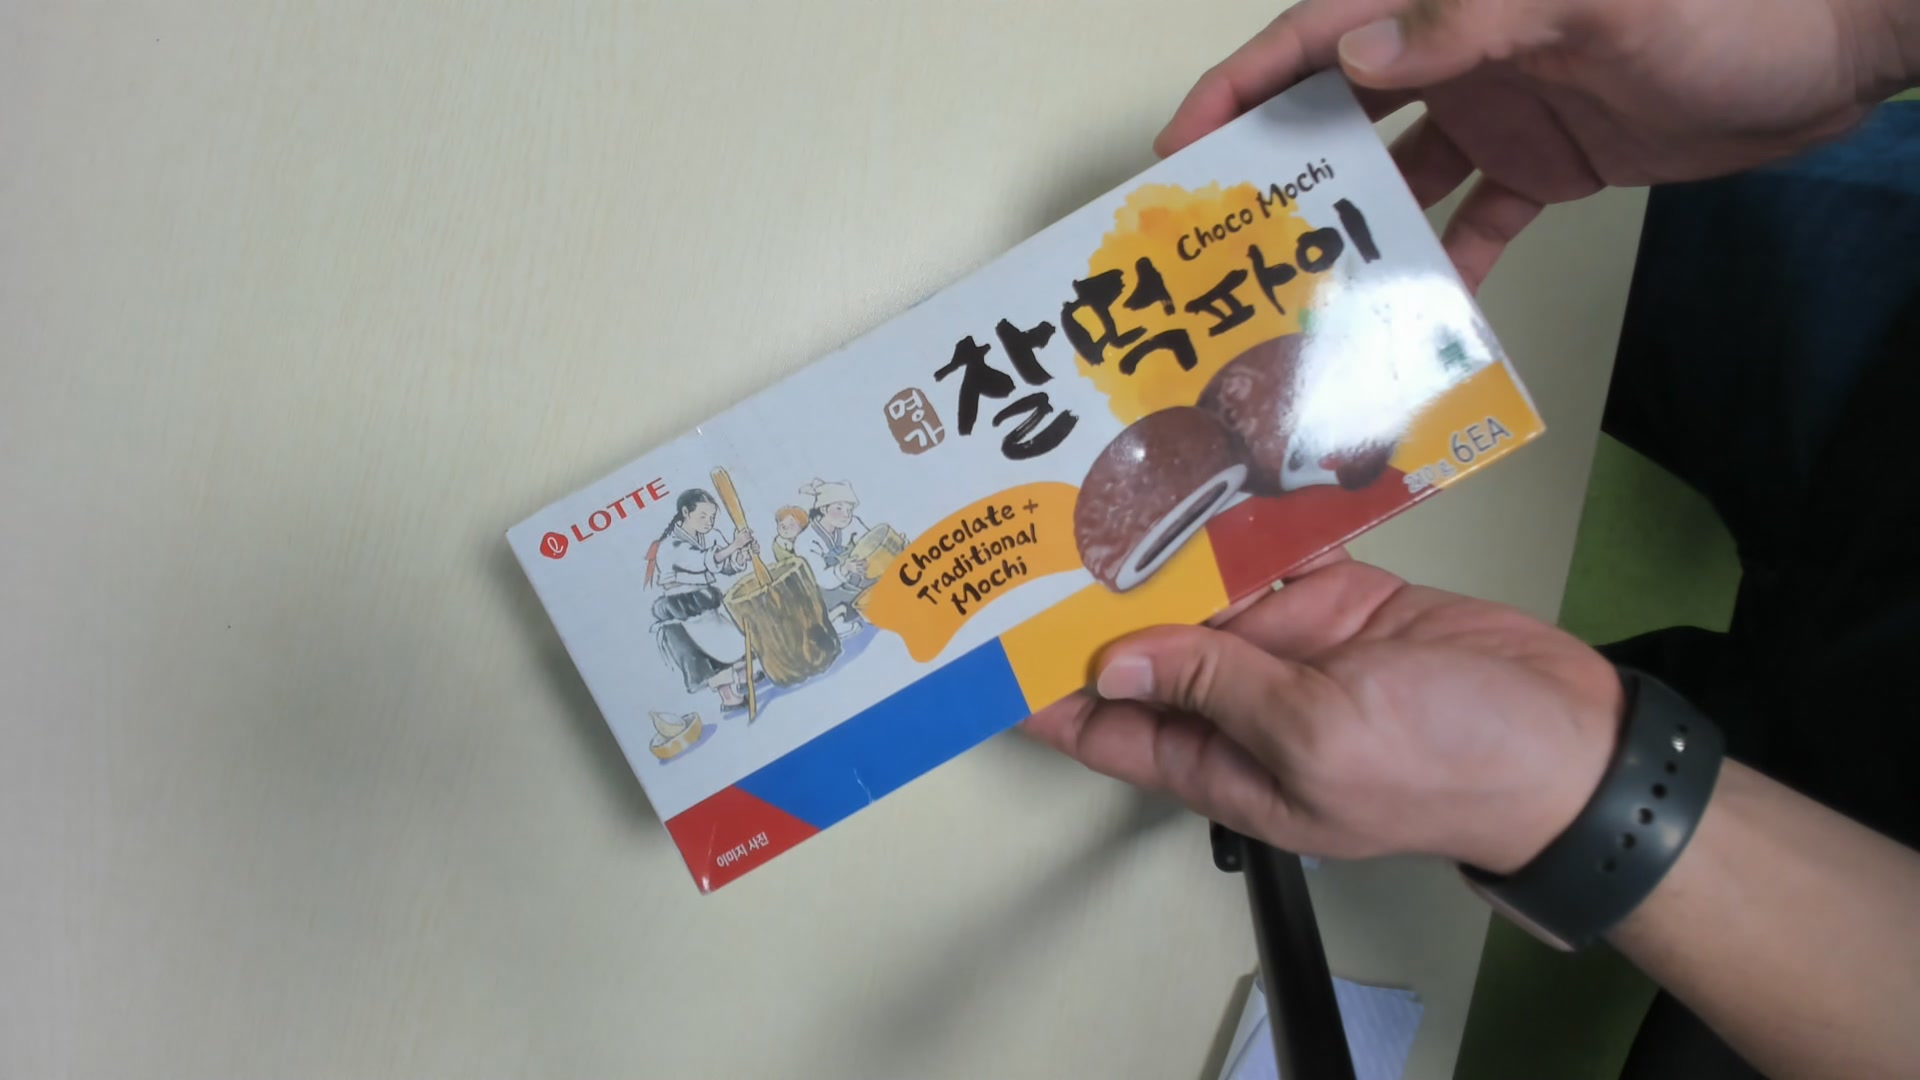SweetsChocolatesOthers_200-299g_NonHalal_Nonhealthy: (500, 76, 1569, 906)
